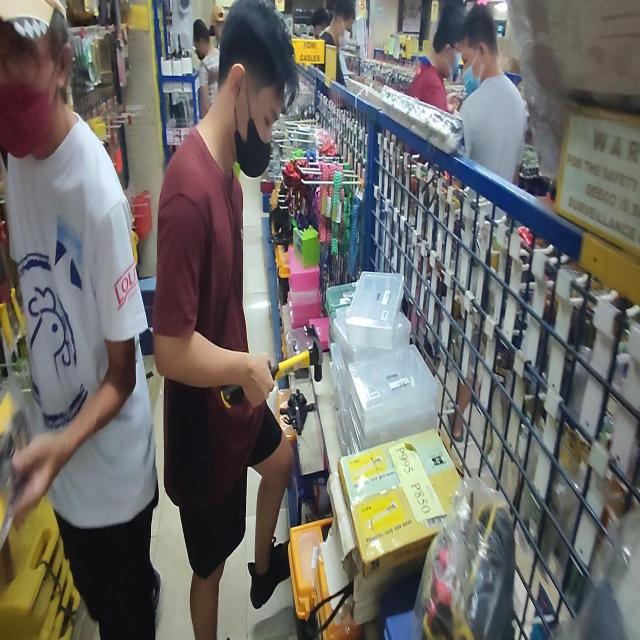hammer: (220, 325, 324, 409)
